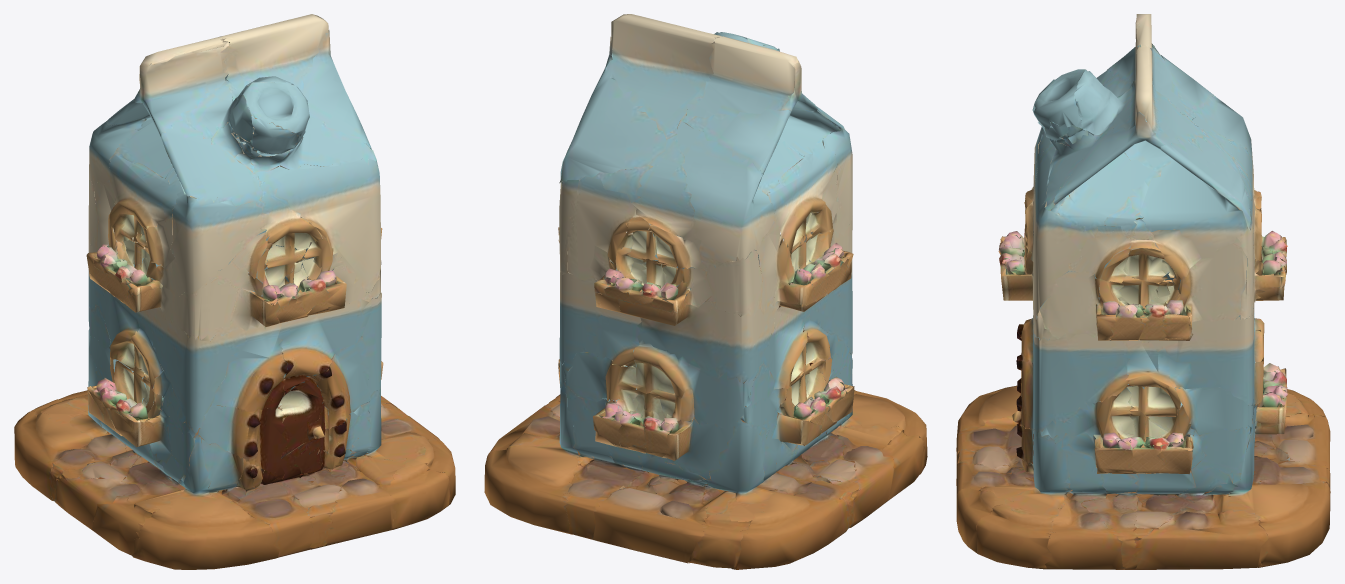
Rendered from milk-carton-apartments.glb.
3 renders of one model, left to right at view 1: azimuth 30°, elevation 25°; view 2: azimuth 150°, elevation 25°; view 3: azimuth 270°, elevation 25°, orthographic.
Visible parts, largest first — view 1: Mesh_0; view 2: Mesh_0; view 3: Mesh_0.
Part boxes in pixels (x1,y1,x2,y2): Mesh_0: (14,14,455,569); Mesh_0: (484,14,927,569); Mesh_0: (956,14,1330,569).
Bounding box in the file's own units: 1.46 × 1.9 × 1.46.
1 material, 1 textured.
